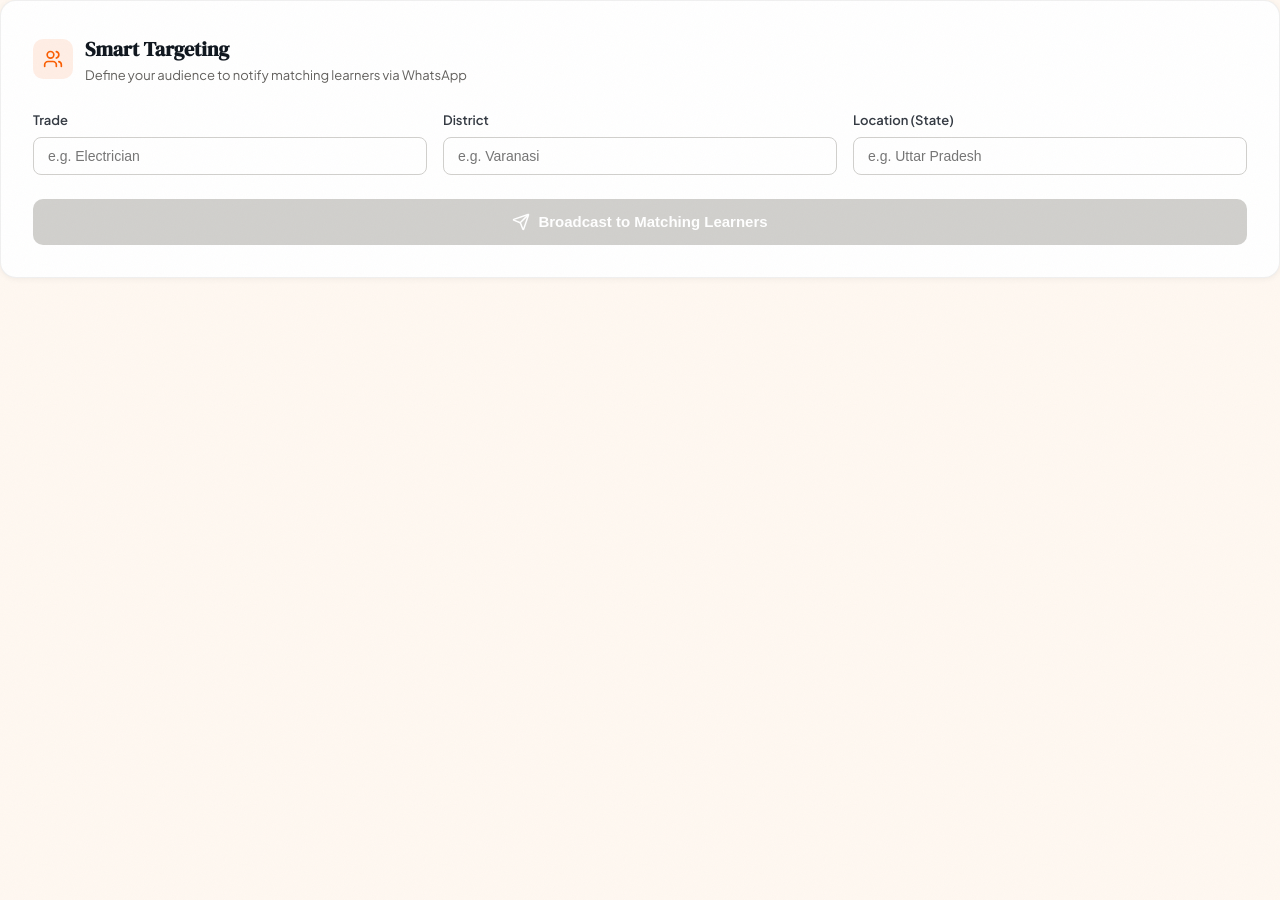
Test: SmartTargetingPanel - Confirmation Dialog › closes confirmation dialog when cancel is clicked
Type "Electrician" into the field with placeholder "e.g. Electrician". click: (230, 156)
box: [33,137,427,175]
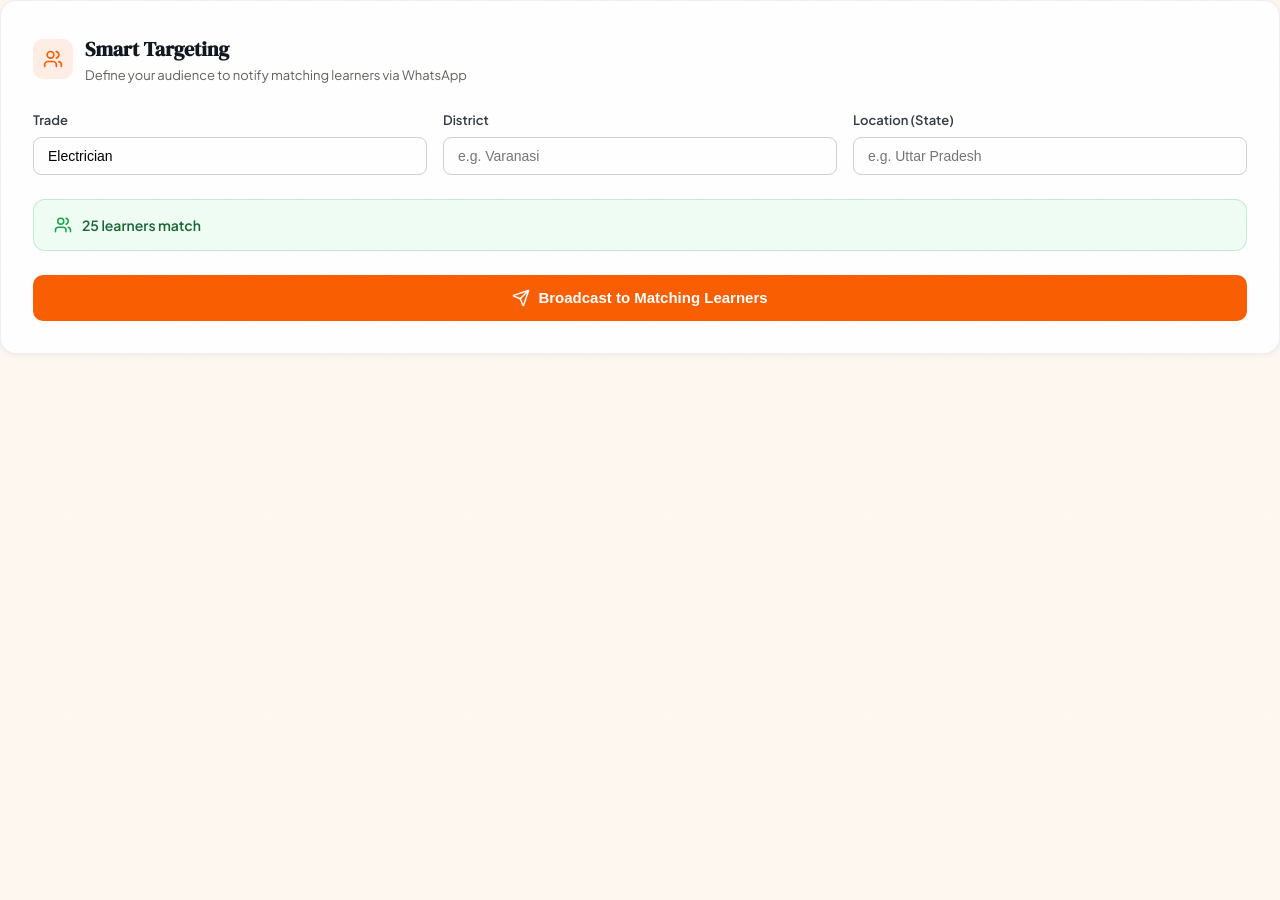
Expected: the text "25 learners match" is shown, [82,214,201,236]
Click the button "Broadcast to Matching Learners". click: (640, 298)
box: [33,275,1247,321]
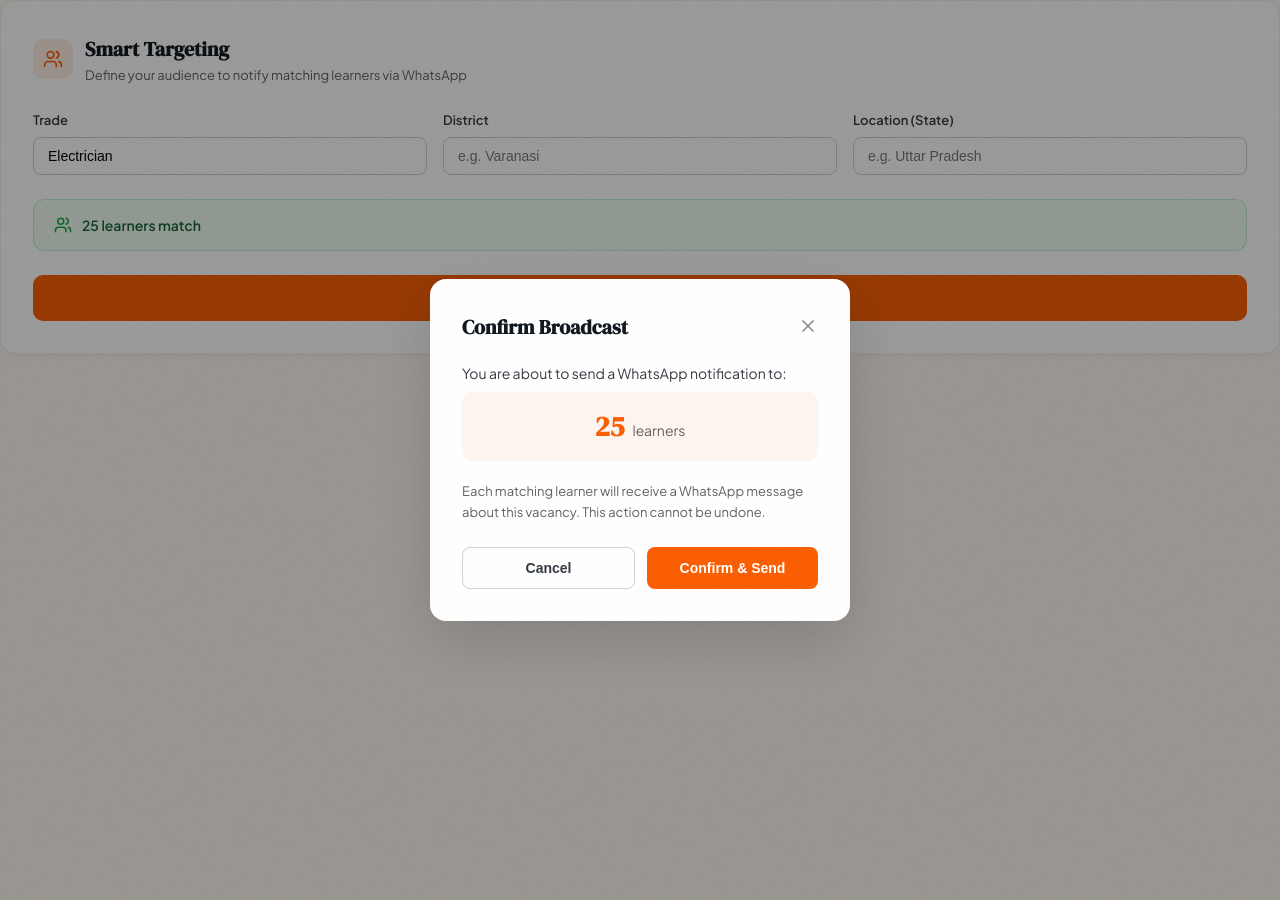
Expected: the heading "Confirm Broadcast" is shown, [462,311,628,343]
# Click Cancel
Click the button "Cancel". click: (548, 568)
box: [462,547,635,589]
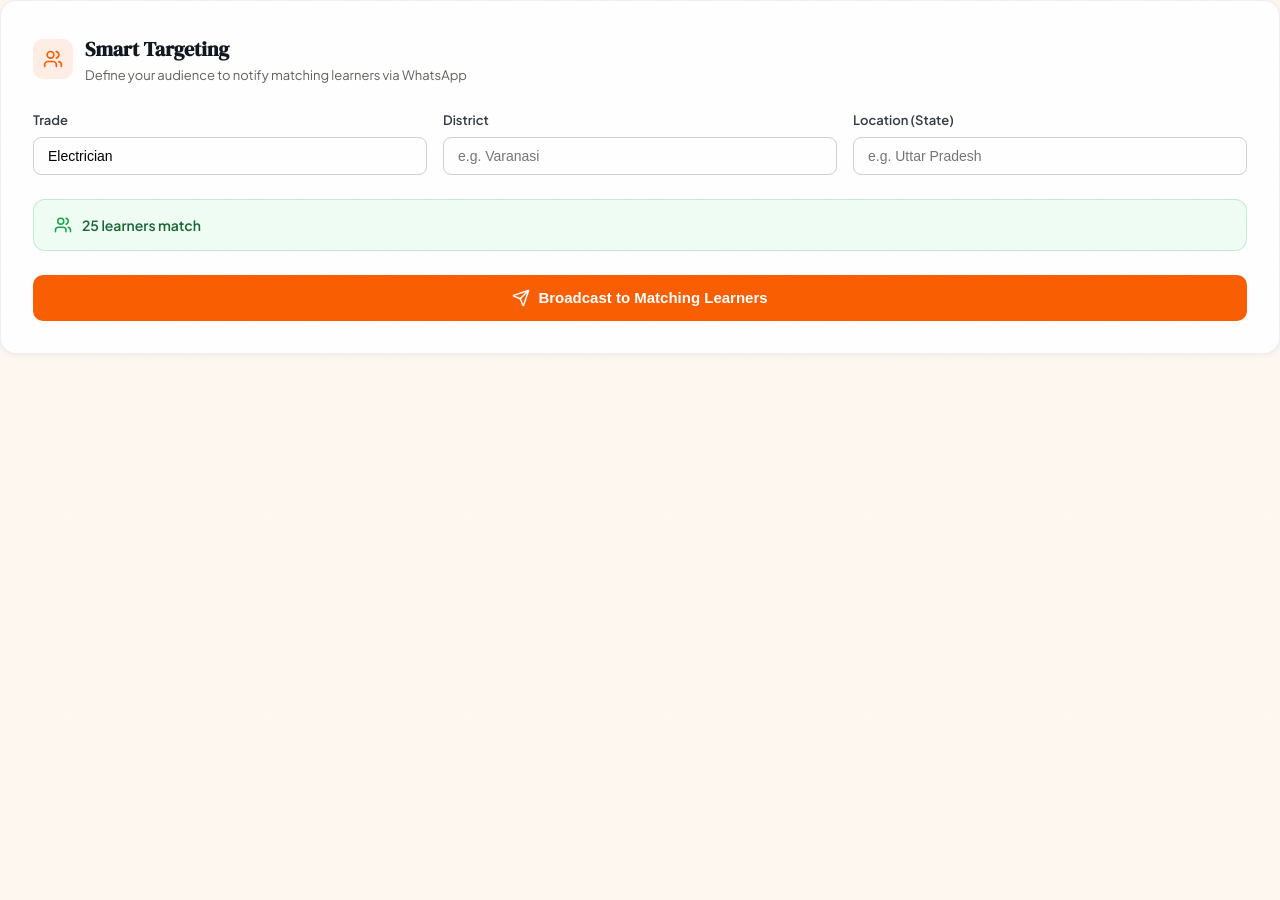
Expected: the heading "Confirm Broadcast" is gone
